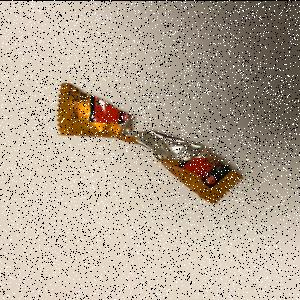Trash: (57, 82, 245, 206)
